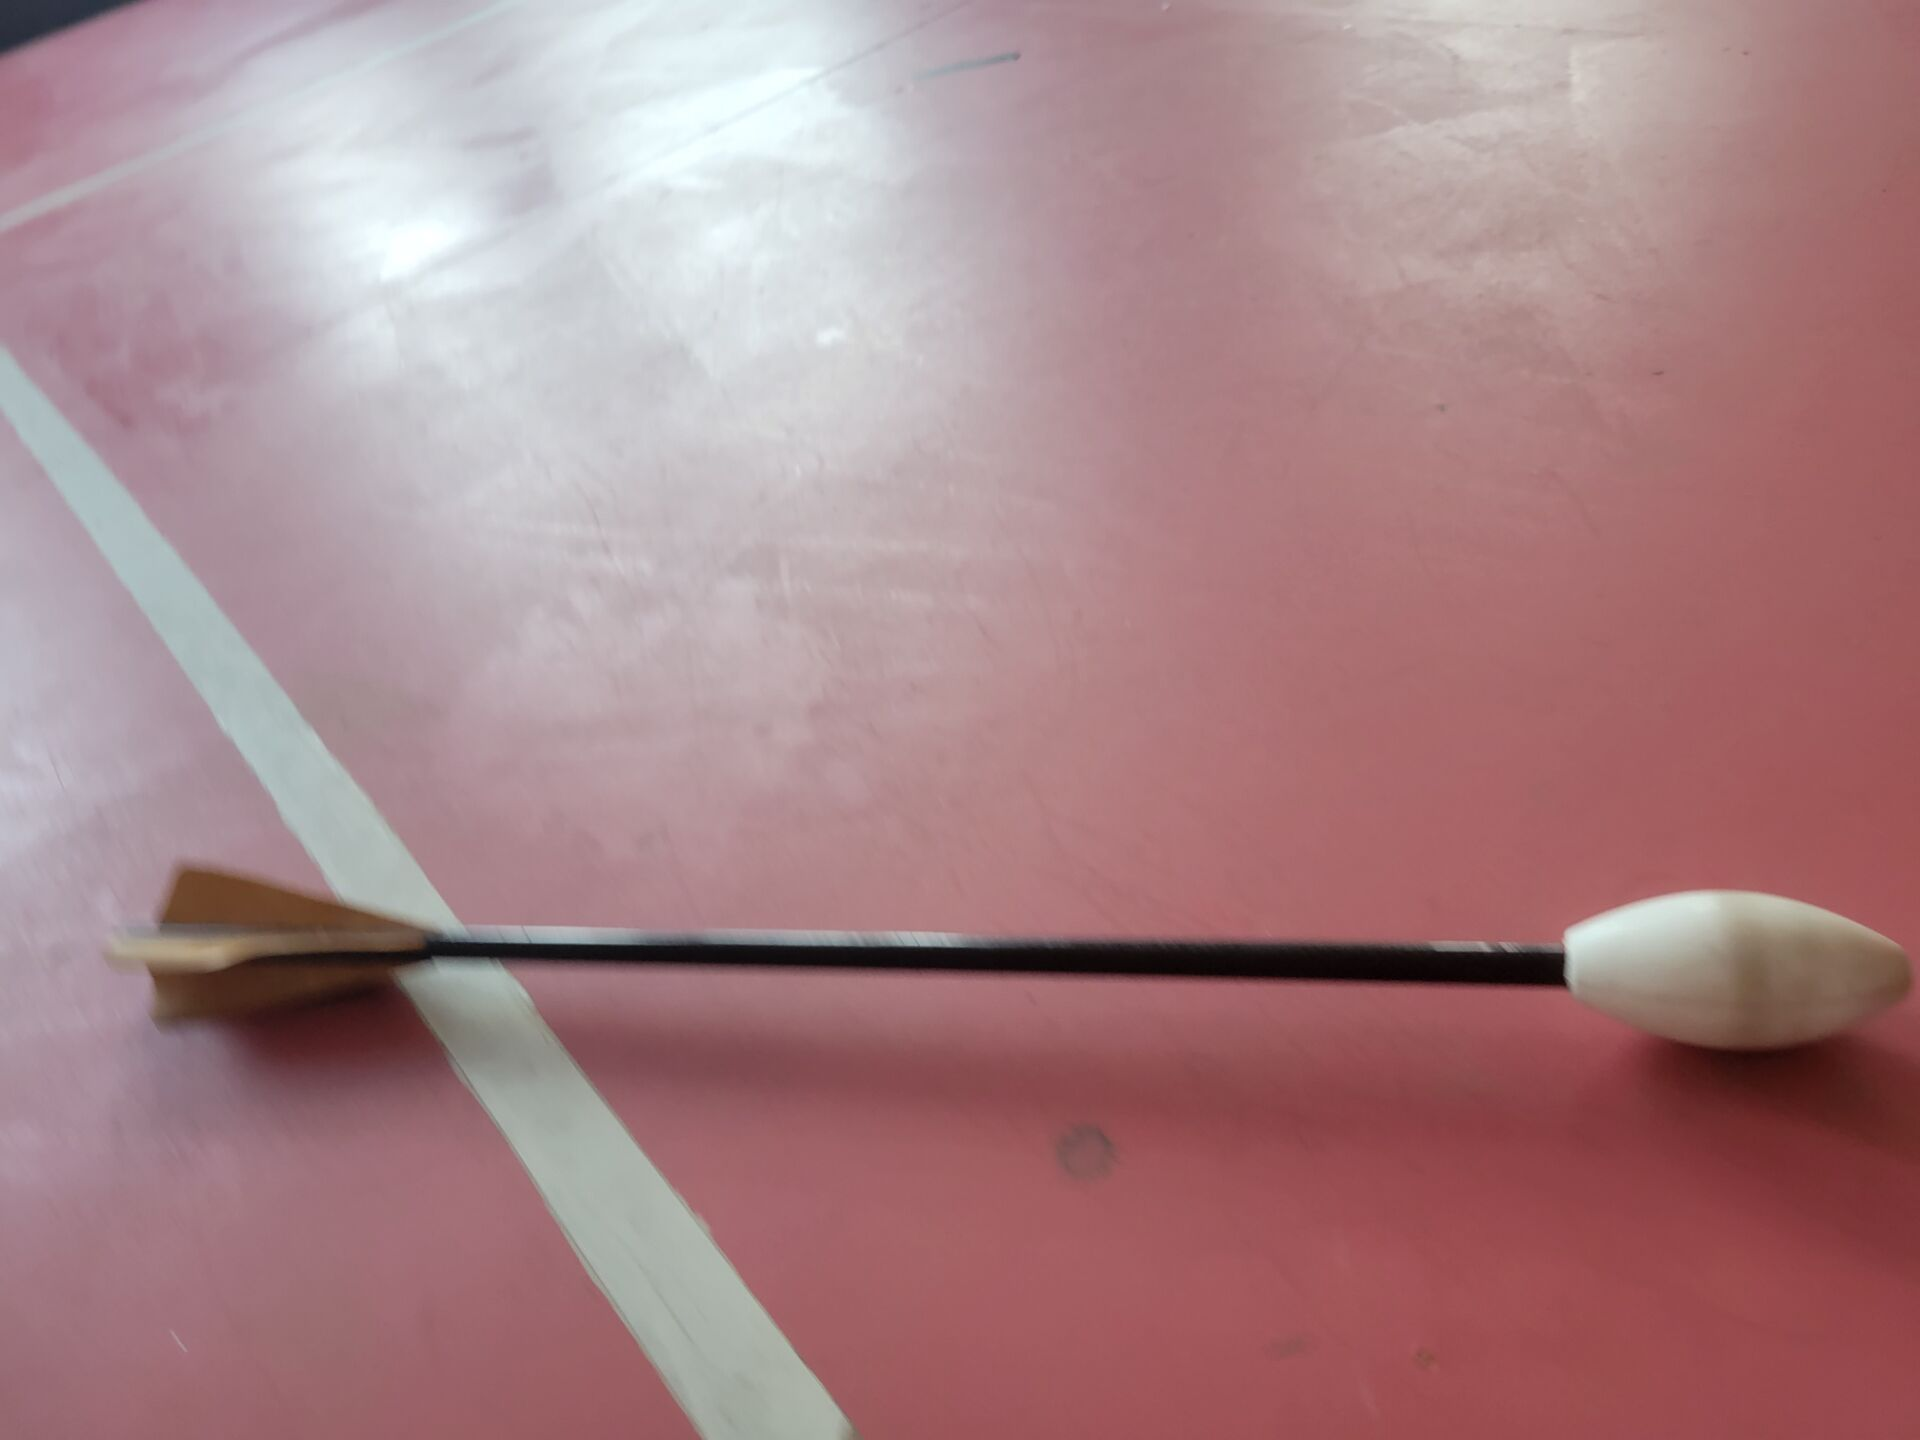arrow: (104, 861, 1912, 1054)
arrowFront: (1550, 886, 1914, 1057)
